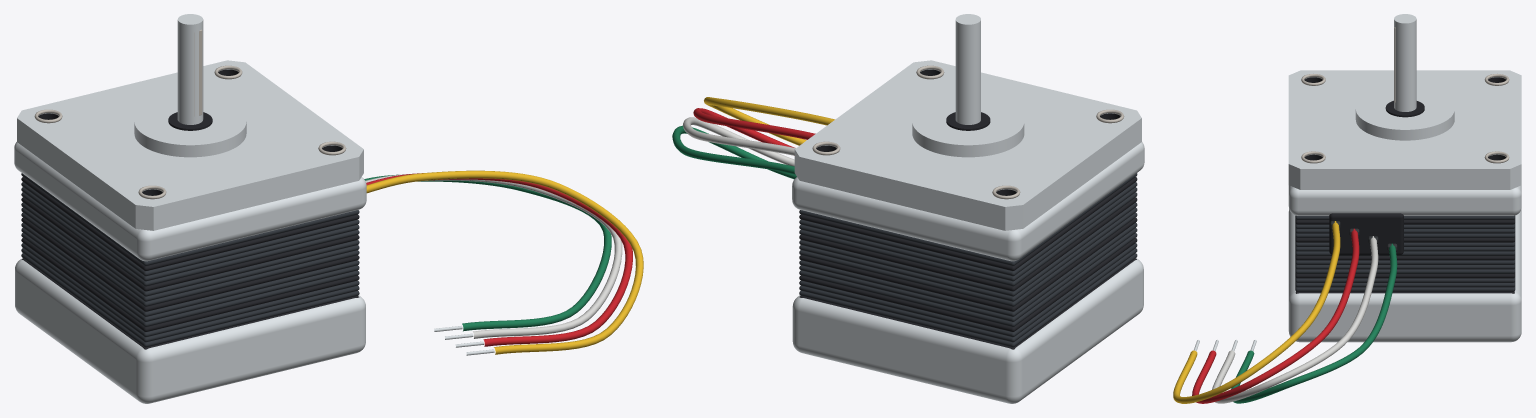
Rendered from components-33.glb.
3 renders of one model, left to right at view 1: azimuth 30°, elevation 25°; view 2: azimuth 150°, elevation 25°; view 3: azimuth 270°, elevation 25°, orthographic. The views are drawn at different scales.
Parts seen in each view (by area): view 1: frame, stack, leads, boss, shaft, mount; view 2: frame, stack, leads, boss, shaft, mount; view 3: frame, stack, leads, boss, grommet, shaft, mount.
Part boxes in pixels (left/top/right/bottom): frame: left=14, top=60, right=366, bottom=403; stack: left=21, top=173, right=359, bottom=349; leads: left=364, top=170, right=643, bottom=355; boss: left=134, top=98, right=246, bottom=157; shaft: left=177, top=14, right=203, bottom=124; mount: left=34, top=65, right=346, bottom=199; frame: left=792, top=60, right=1144, bottom=403; stack: left=799, top=173, right=1137, bottom=349; leads: left=672, top=97, right=834, bottom=179; boss: left=912, top=98, right=1024, bottom=157; shaft: left=955, top=14, right=980, bottom=124; mount: left=812, top=65, right=1124, bottom=199; frame: left=1288, top=70, right=1521, bottom=342; stack: left=1295, top=215, right=1515, bottom=293; leads: left=1173, top=221, right=1397, bottom=403; boss: left=1355, top=88, right=1454, bottom=140; grommet: left=1329, top=213, right=1403, bottom=254; shaft: left=1394, top=14, right=1416, bottom=111; mount: left=1301, top=74, right=1509, bottom=163.
Size of the model in its own units: 3.27 by 2.1 by 2.39.
